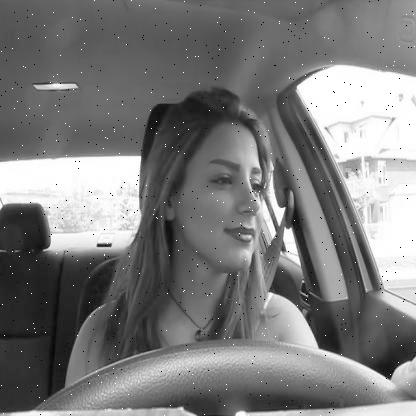seatbelt: (132, 87, 300, 341)
